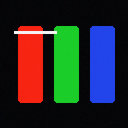3 line_h: (14, 31, 56, 33)
